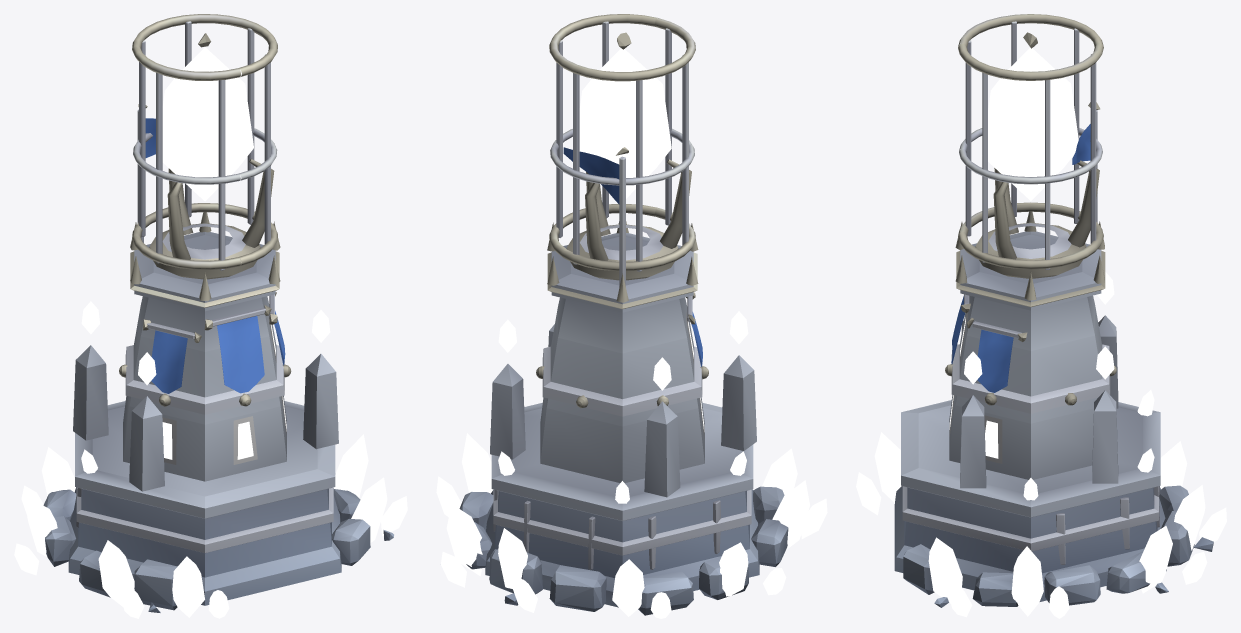
File: frost_1_9.glb
3 views of the same model, side by side, from view 1: azimuth 30°, elevation 25°; view 2: azimuth 150°, elevation 25°; view 3: azimuth 270°, elevation 25° (orthographic).
Visible parts, largest first — view 1: Tower, Turret; view 2: Tower, Turret; view 3: Tower, Turret.
Boxes of the visible parts, x1,y1,x2,y2 form: Tower: [14, 104, 407, 618]; Turret: [132, 14, 277, 279]; Tower: [436, 147, 827, 618]; Turret: [549, 14, 695, 280]; Tower: [856, 102, 1226, 618]; Turret: [958, 14, 1103, 278].
Size of the model in its own units: 4.29 by 6.23 by 4.01.
